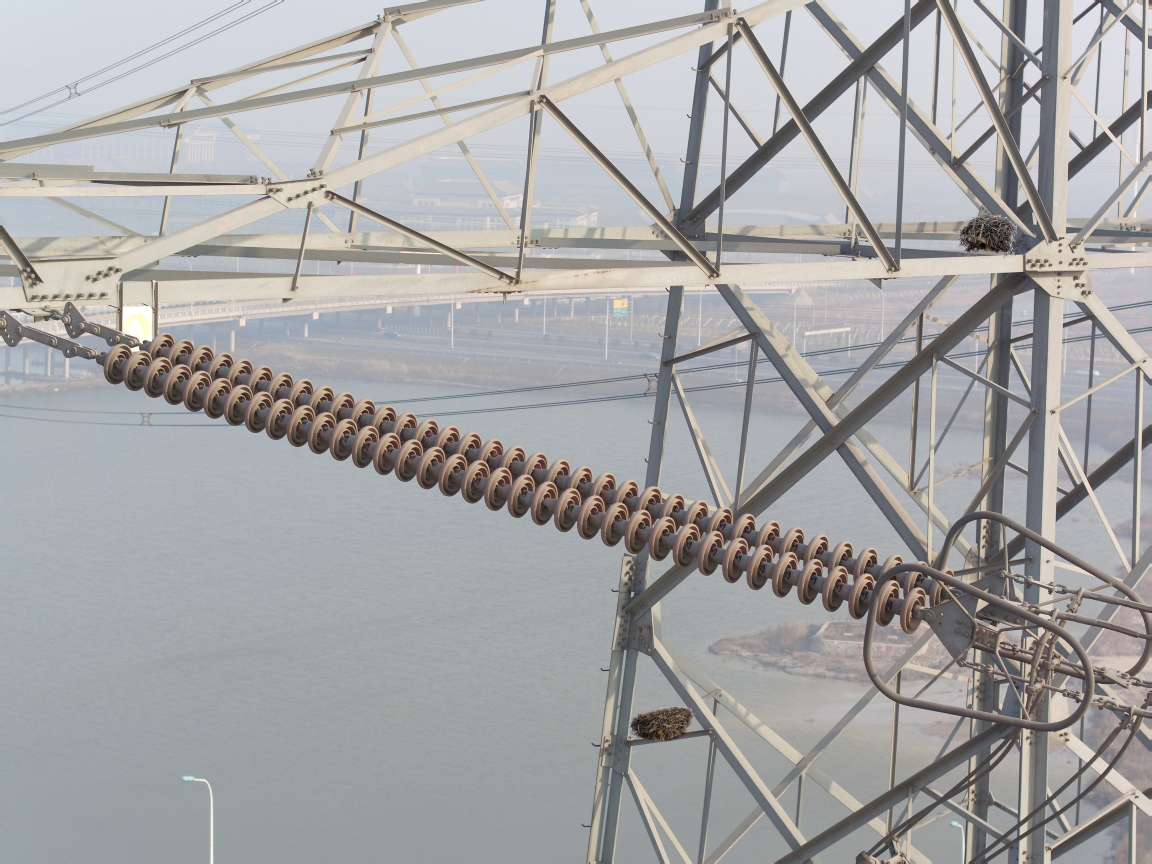nest: (955, 210, 1025, 258), (627, 701, 695, 743)
